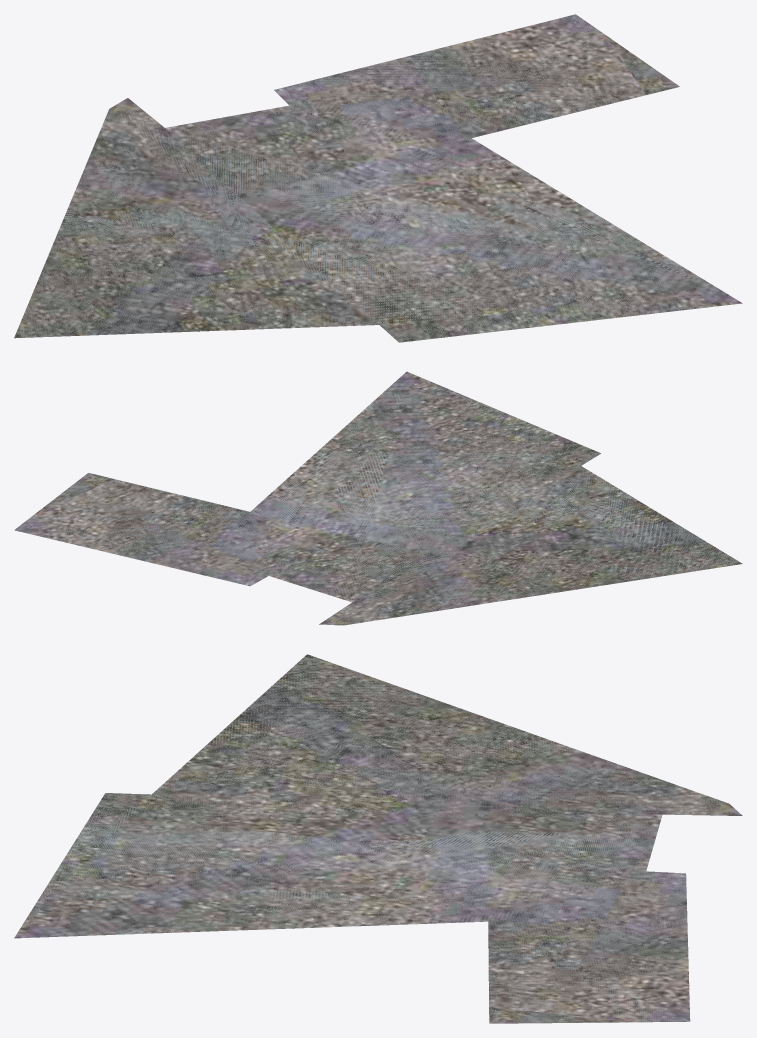
The model's file is 西庸城堡87.dae.
3 views of the same model, one above another, from view 1: azimuth 30°, elevation 25°; view 2: azimuth 150°, elevation 25°; view 3: azimuth 270°, elevation 25° (orthographic). The views are drawn at different scales.
Parts seen in each view (by area): view 1: SketchUp; view 2: SketchUp; view 3: SketchUp.
Part boxes in pixels (x1=…): SketchUp: x1=14, y1=14, x2=742, y2=342; SketchUp: x1=14, y1=371, x2=742, y2=625; SketchUp: x1=14, y1=654, x2=742, y2=1023.
Bounding box in the file's own units: 906 × 755 × 0.
